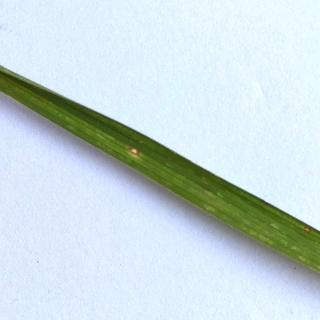Blast: (110, 129, 165, 179)
